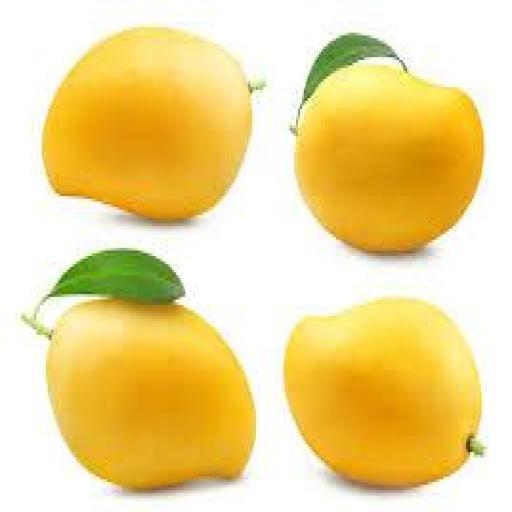mango: (44, 28, 252, 220), (48, 300, 255, 490), (285, 300, 481, 487), (297, 66, 483, 253)
